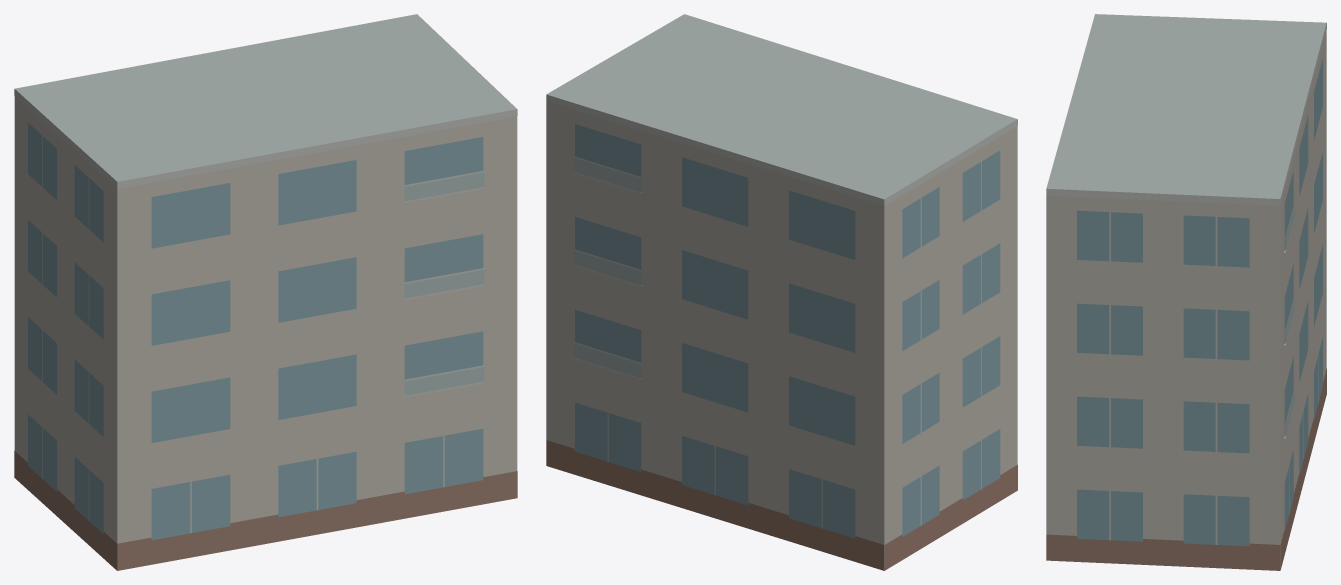
Rendered from survey-upis-32462877.glb.
3 views of the same model, side by side, from view 1: azimuth 30°, elevation 25°; view 2: azimuth 150°, elevation 25°; view 3: azimuth 270°, elevation 25° (orthographic). The views are drawn at different scales.
Visible parts, largest first — view 1: survey-upis-32462877.tmp; view 2: survey-upis-32462877.tmp; view 3: survey-upis-32462877.tmp.
Boxes of the visible parts, x1,y1,x2,y2 form: survey-upis-32462877.tmp: [14, 14, 517, 570]; survey-upis-32462877.tmp: [546, 14, 1017, 570]; survey-upis-32462877.tmp: [1046, 14, 1326, 570].
Bounding box in the file's own units: 14.42 × 13.5 × 9.24.
